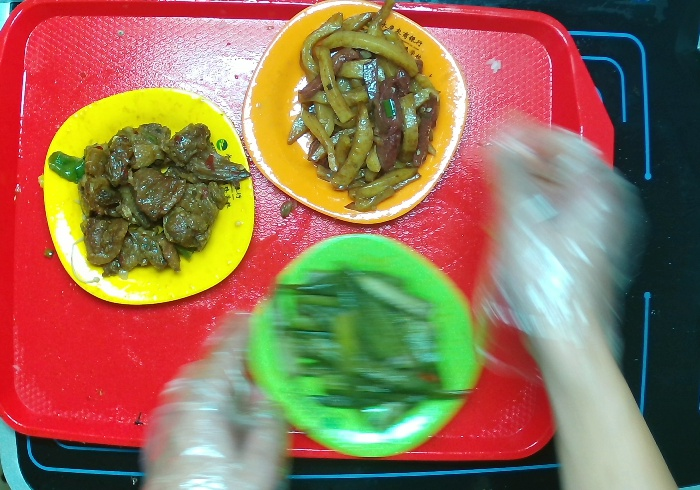YKMZ-Huang_Se_Fang_Die: (43, 85, 257, 308)
YKMZ-Ju_Se_Fang_Die: (239, 1, 468, 224)
YKMZ-Lv_Se_Fang_Die: (249, 231, 483, 461)
